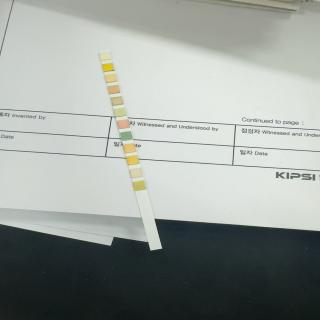mark: (133, 181, 145, 190), (130, 169, 142, 177), (115, 108, 126, 116), (118, 120, 129, 128), (121, 132, 132, 140), (127, 156, 138, 164), (100, 53, 112, 60), (103, 63, 113, 71), (112, 97, 122, 105), (124, 144, 134, 152), (108, 86, 119, 93), (106, 75, 116, 82)
